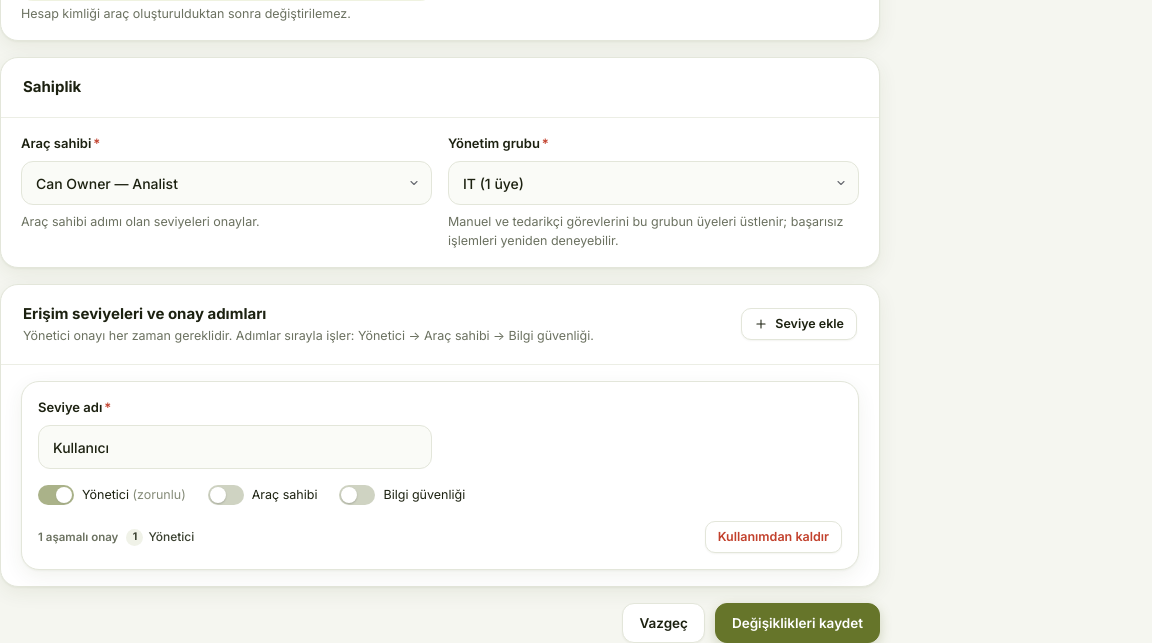
Test: tool administration after a failed save › reloads the saved levels when a level save fails
(page scrolled)
Replace the text in the field labelled "Seviye adı*" with "Okuyucu". click: (235, 447)
box: [38, 425, 432, 469]
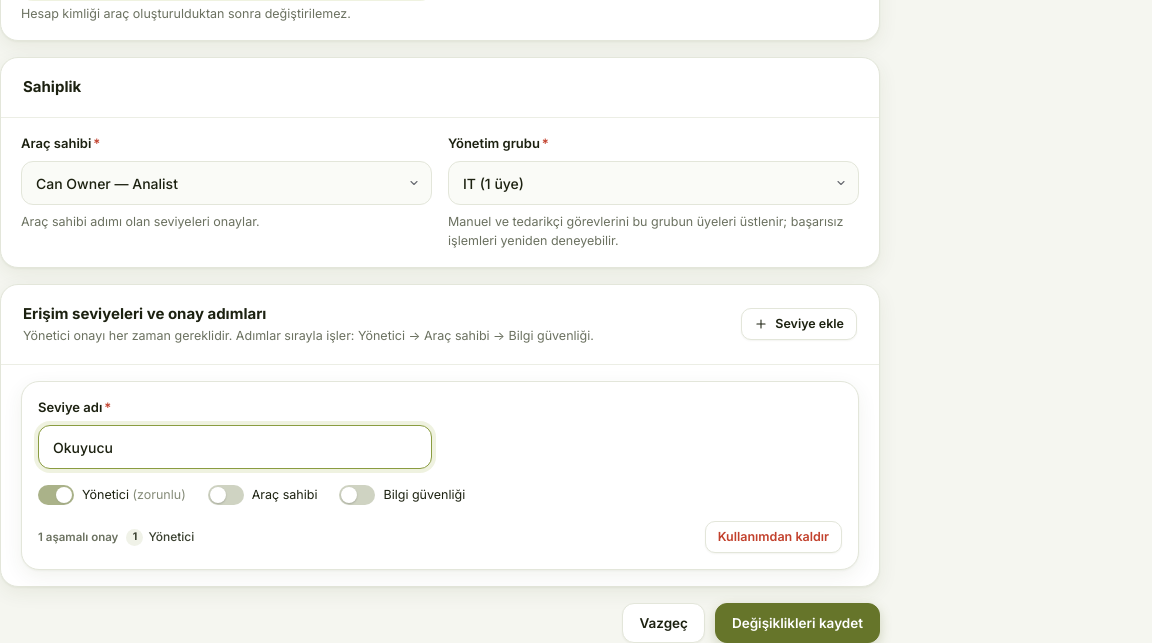
Click the button "Değişiklikleri kaydet". click: (797, 623)
box: [715, 603, 880, 642]
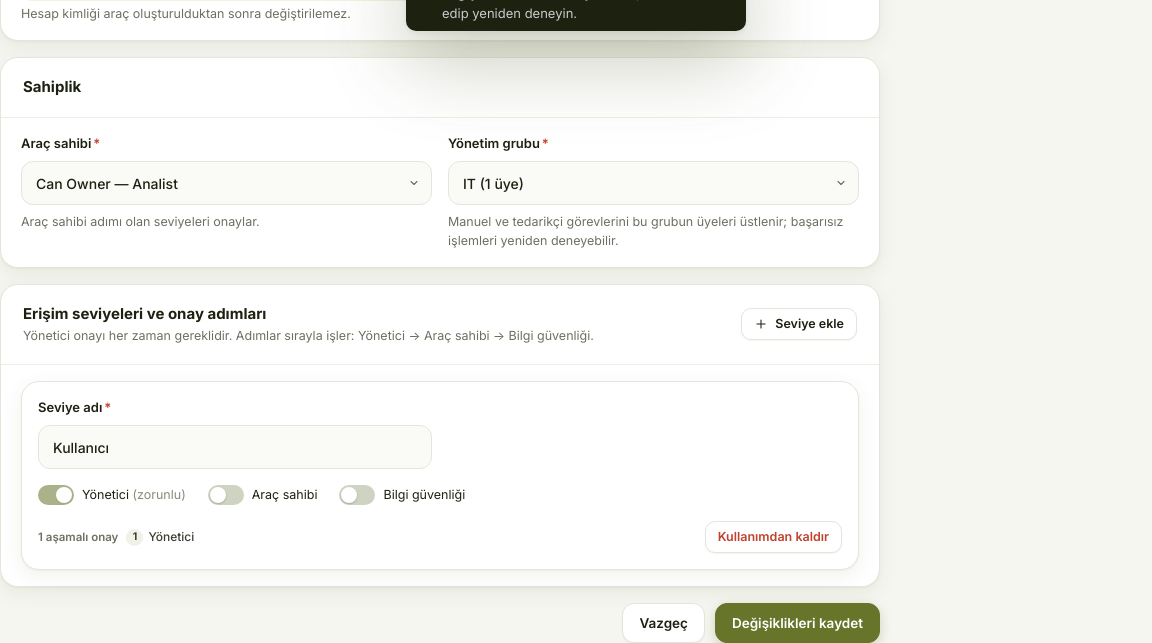
expect the field labelled "Seviye adı*" holds "Kullanıcı": met, box [38, 425, 432, 469]
